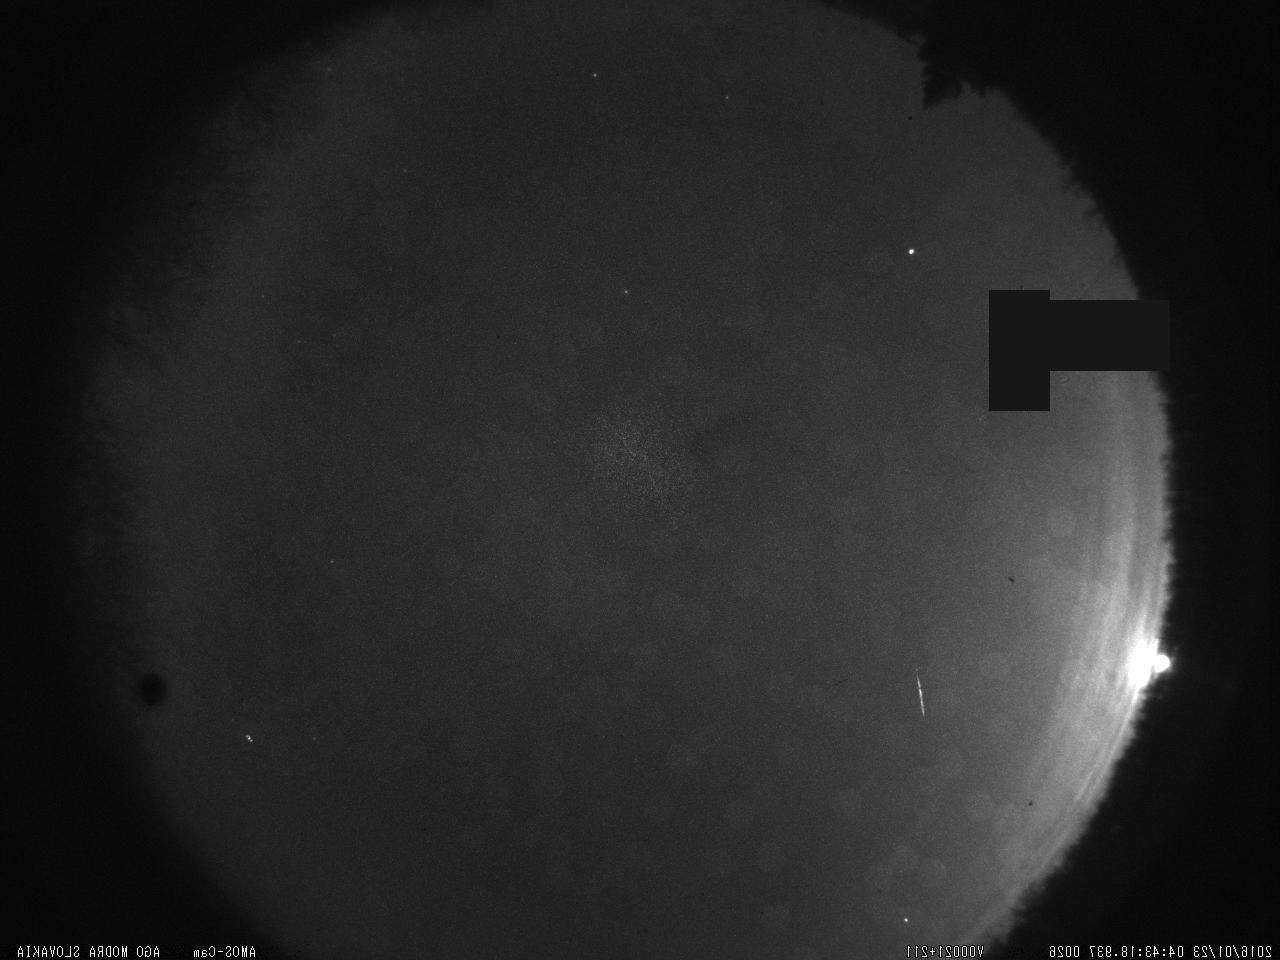meteor: (909, 654, 934, 726)
